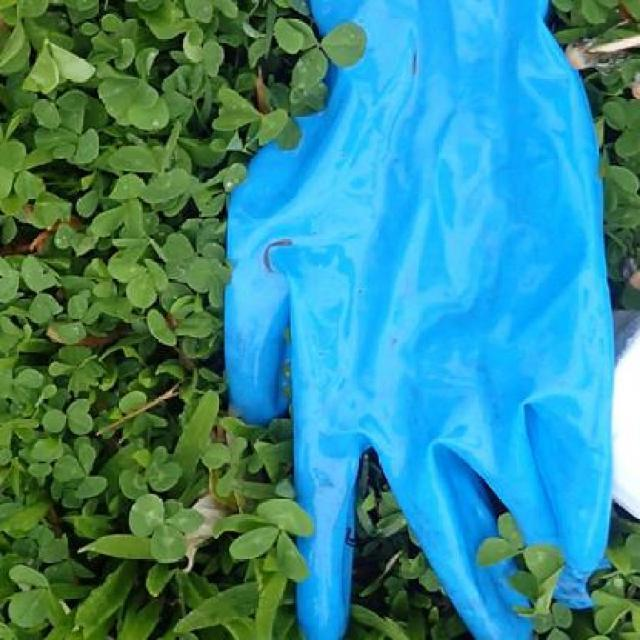gloved_hand: (227, 0, 621, 640)
